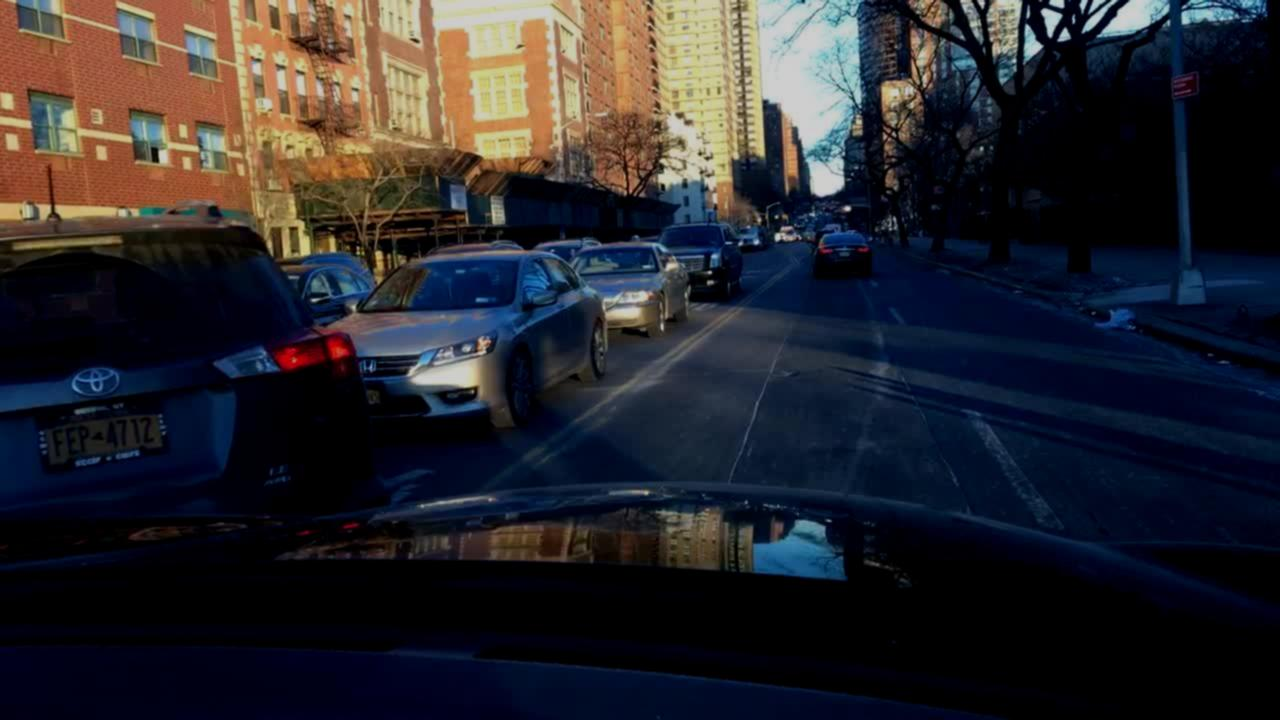Honda: (353, 350, 383, 385)
Toyota: (65, 359, 125, 400)
